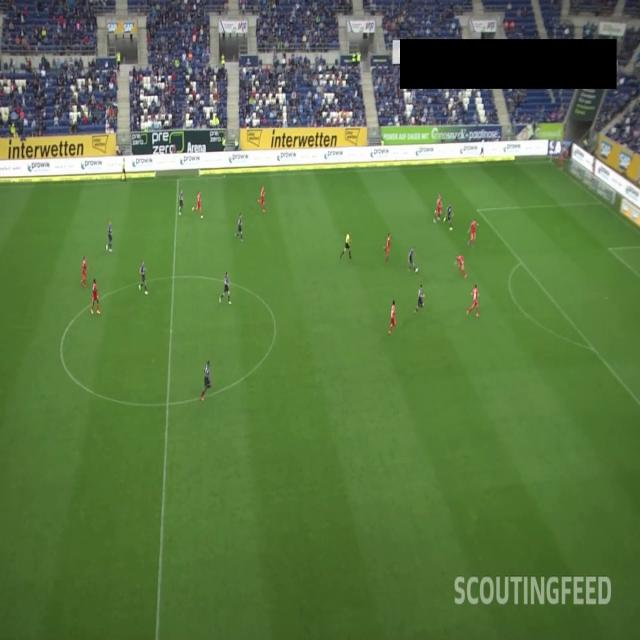ball: (414, 260, 419, 276)
player: (88, 279, 103, 318), (201, 355, 212, 400), (103, 219, 115, 257), (139, 259, 151, 294), (444, 201, 455, 235), (221, 272, 232, 305), (470, 282, 480, 318), (78, 252, 88, 287), (434, 193, 444, 225), (176, 183, 185, 218), (456, 252, 468, 278), (258, 183, 268, 212), (468, 219, 478, 248), (194, 192, 204, 220), (406, 244, 416, 272), (390, 295, 396, 335), (416, 285, 424, 313), (236, 211, 243, 240), (385, 232, 391, 265)
